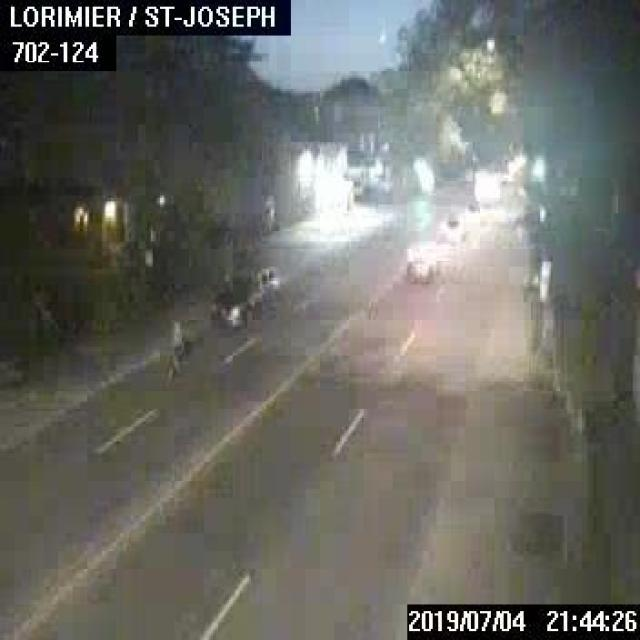pedestrian: (167, 318, 187, 376)
vehicle: (210, 265, 276, 327), (405, 255, 433, 282)
